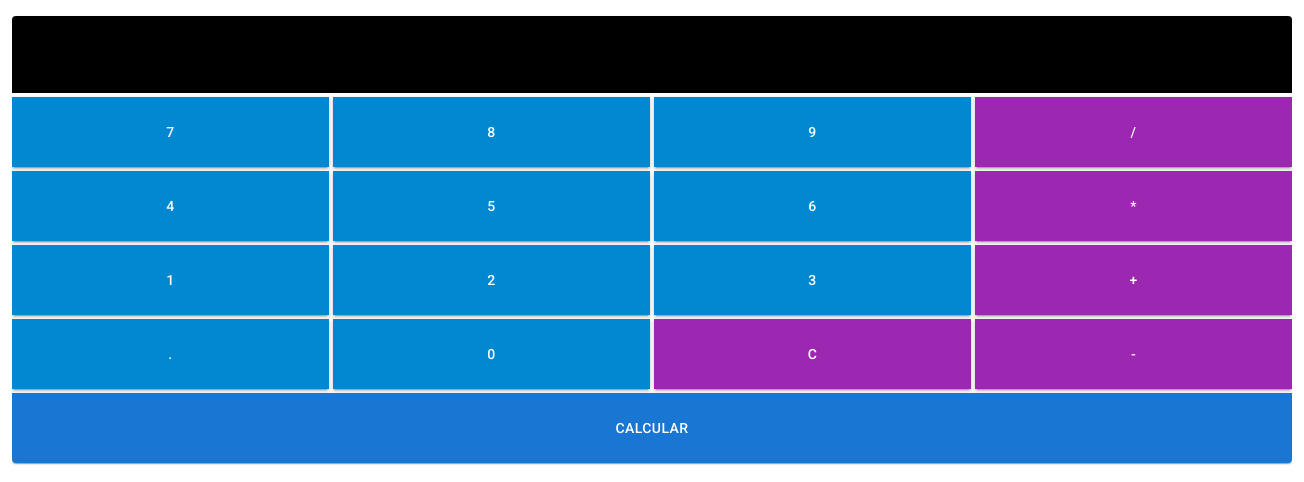
Test: Calculadora component › Deve subtrair dois números
What coordinates should you click on to do the following:
click the button "1"
I would click on:
 (170, 280)
Its box is x1=12 y1=245 x2=329 y2=315.
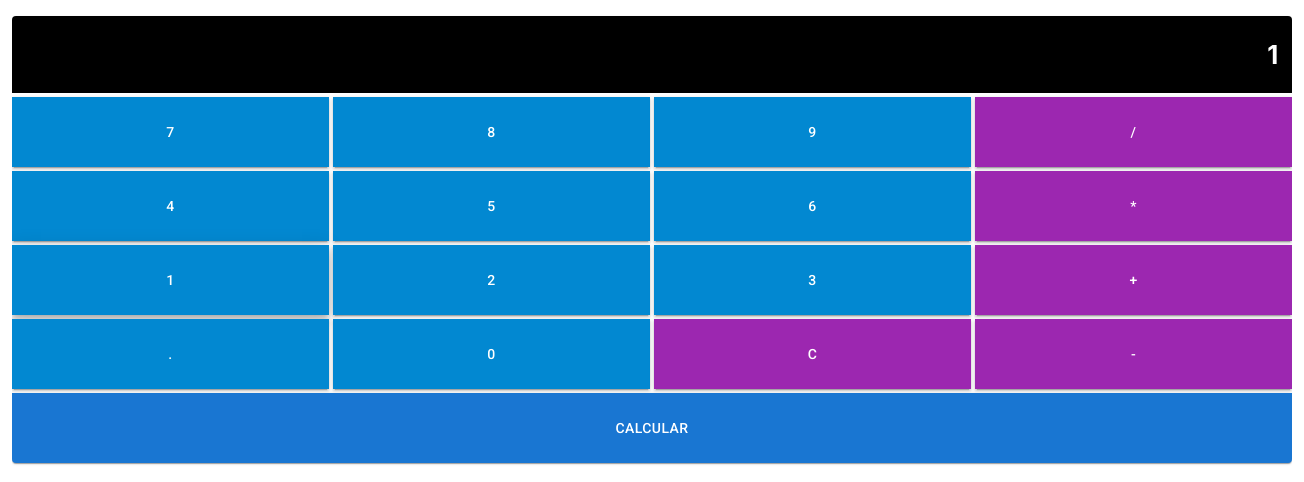
What coordinates should you click on to do the following:
click the button "-"
I would click on:
 (1134, 354)
Its box is x1=975 y1=319 x2=1292 y2=389.
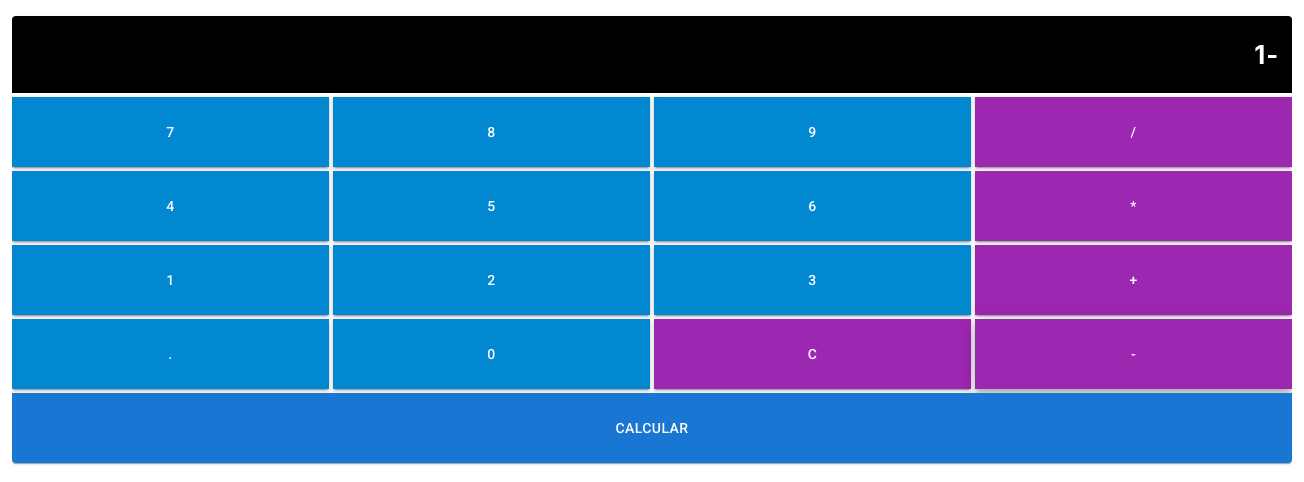
What coordinates should you click on to do the following:
click the button "2"
I would click on:
 (492, 280)
Its box is x1=333 y1=245 x2=650 y2=315.
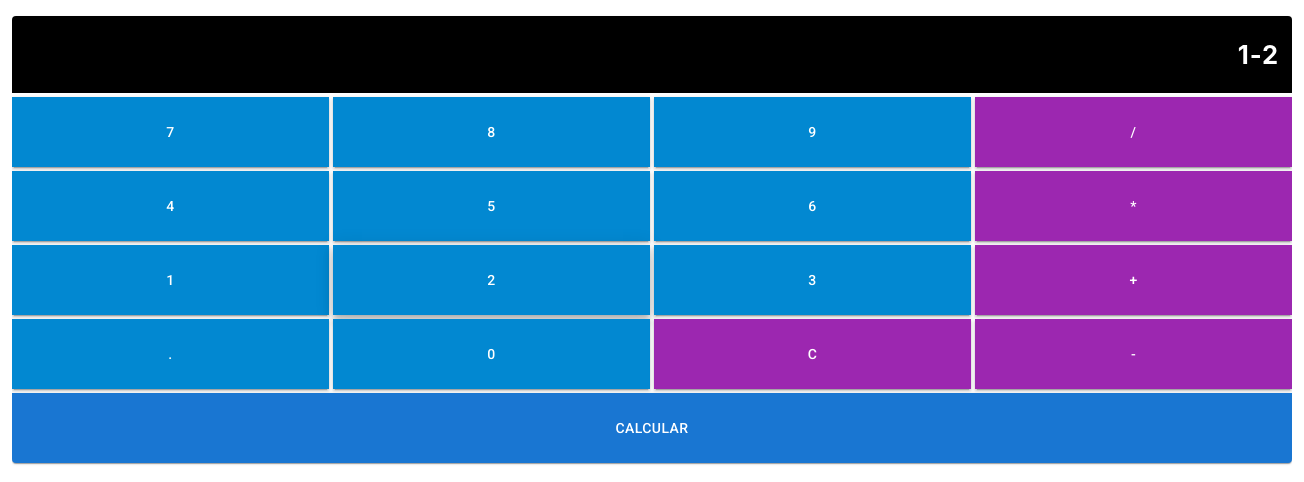
What coordinates should you click on to do the following:
click the button "Calcular"
I would click on:
 (652, 428)
Its box is x1=12 y1=393 x2=1292 y2=463.
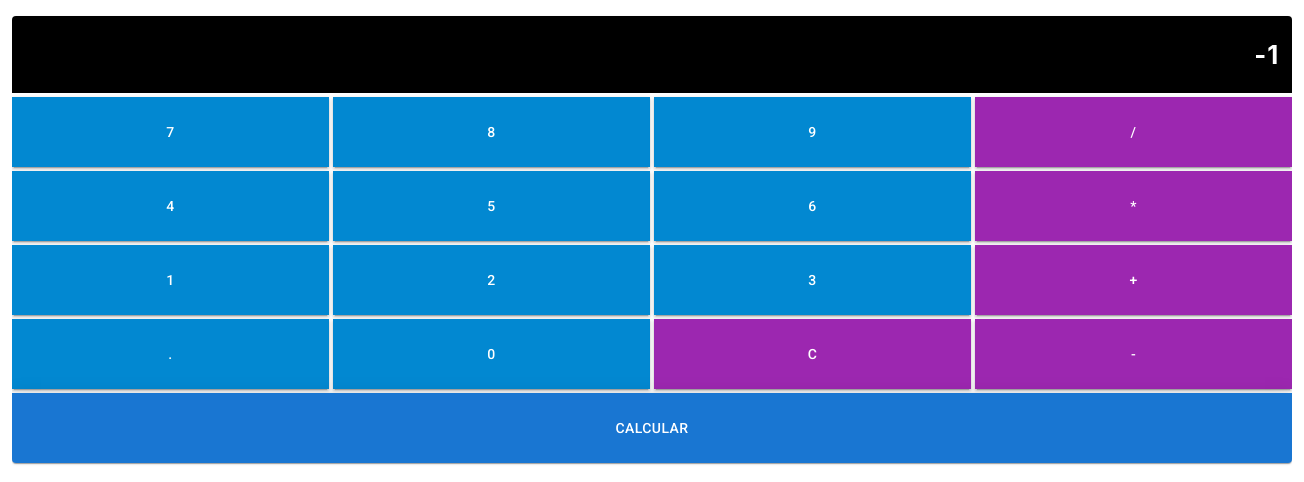
Expected: the text "-1" is shown, x1=12 y1=16 x2=1292 y2=93
